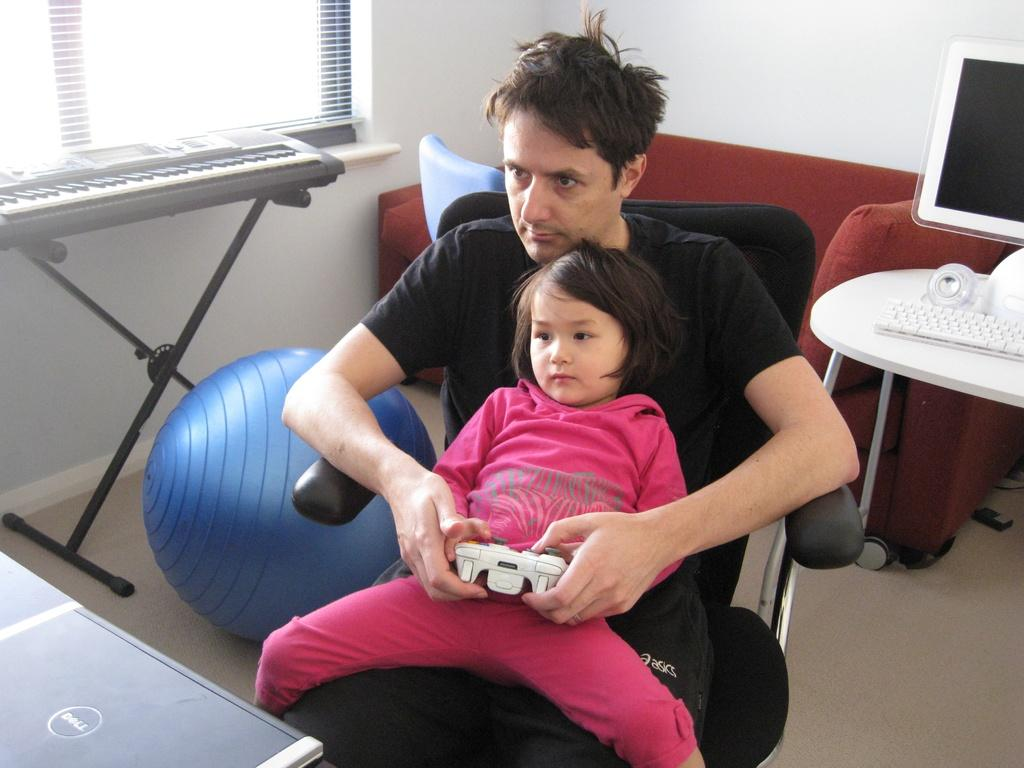Chair: (283, 196, 864, 767), (422, 134, 507, 229)
